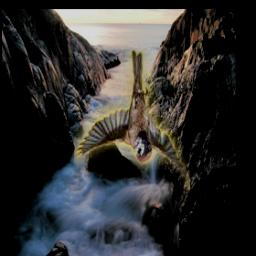Sparrow: (75, 51, 191, 191)
